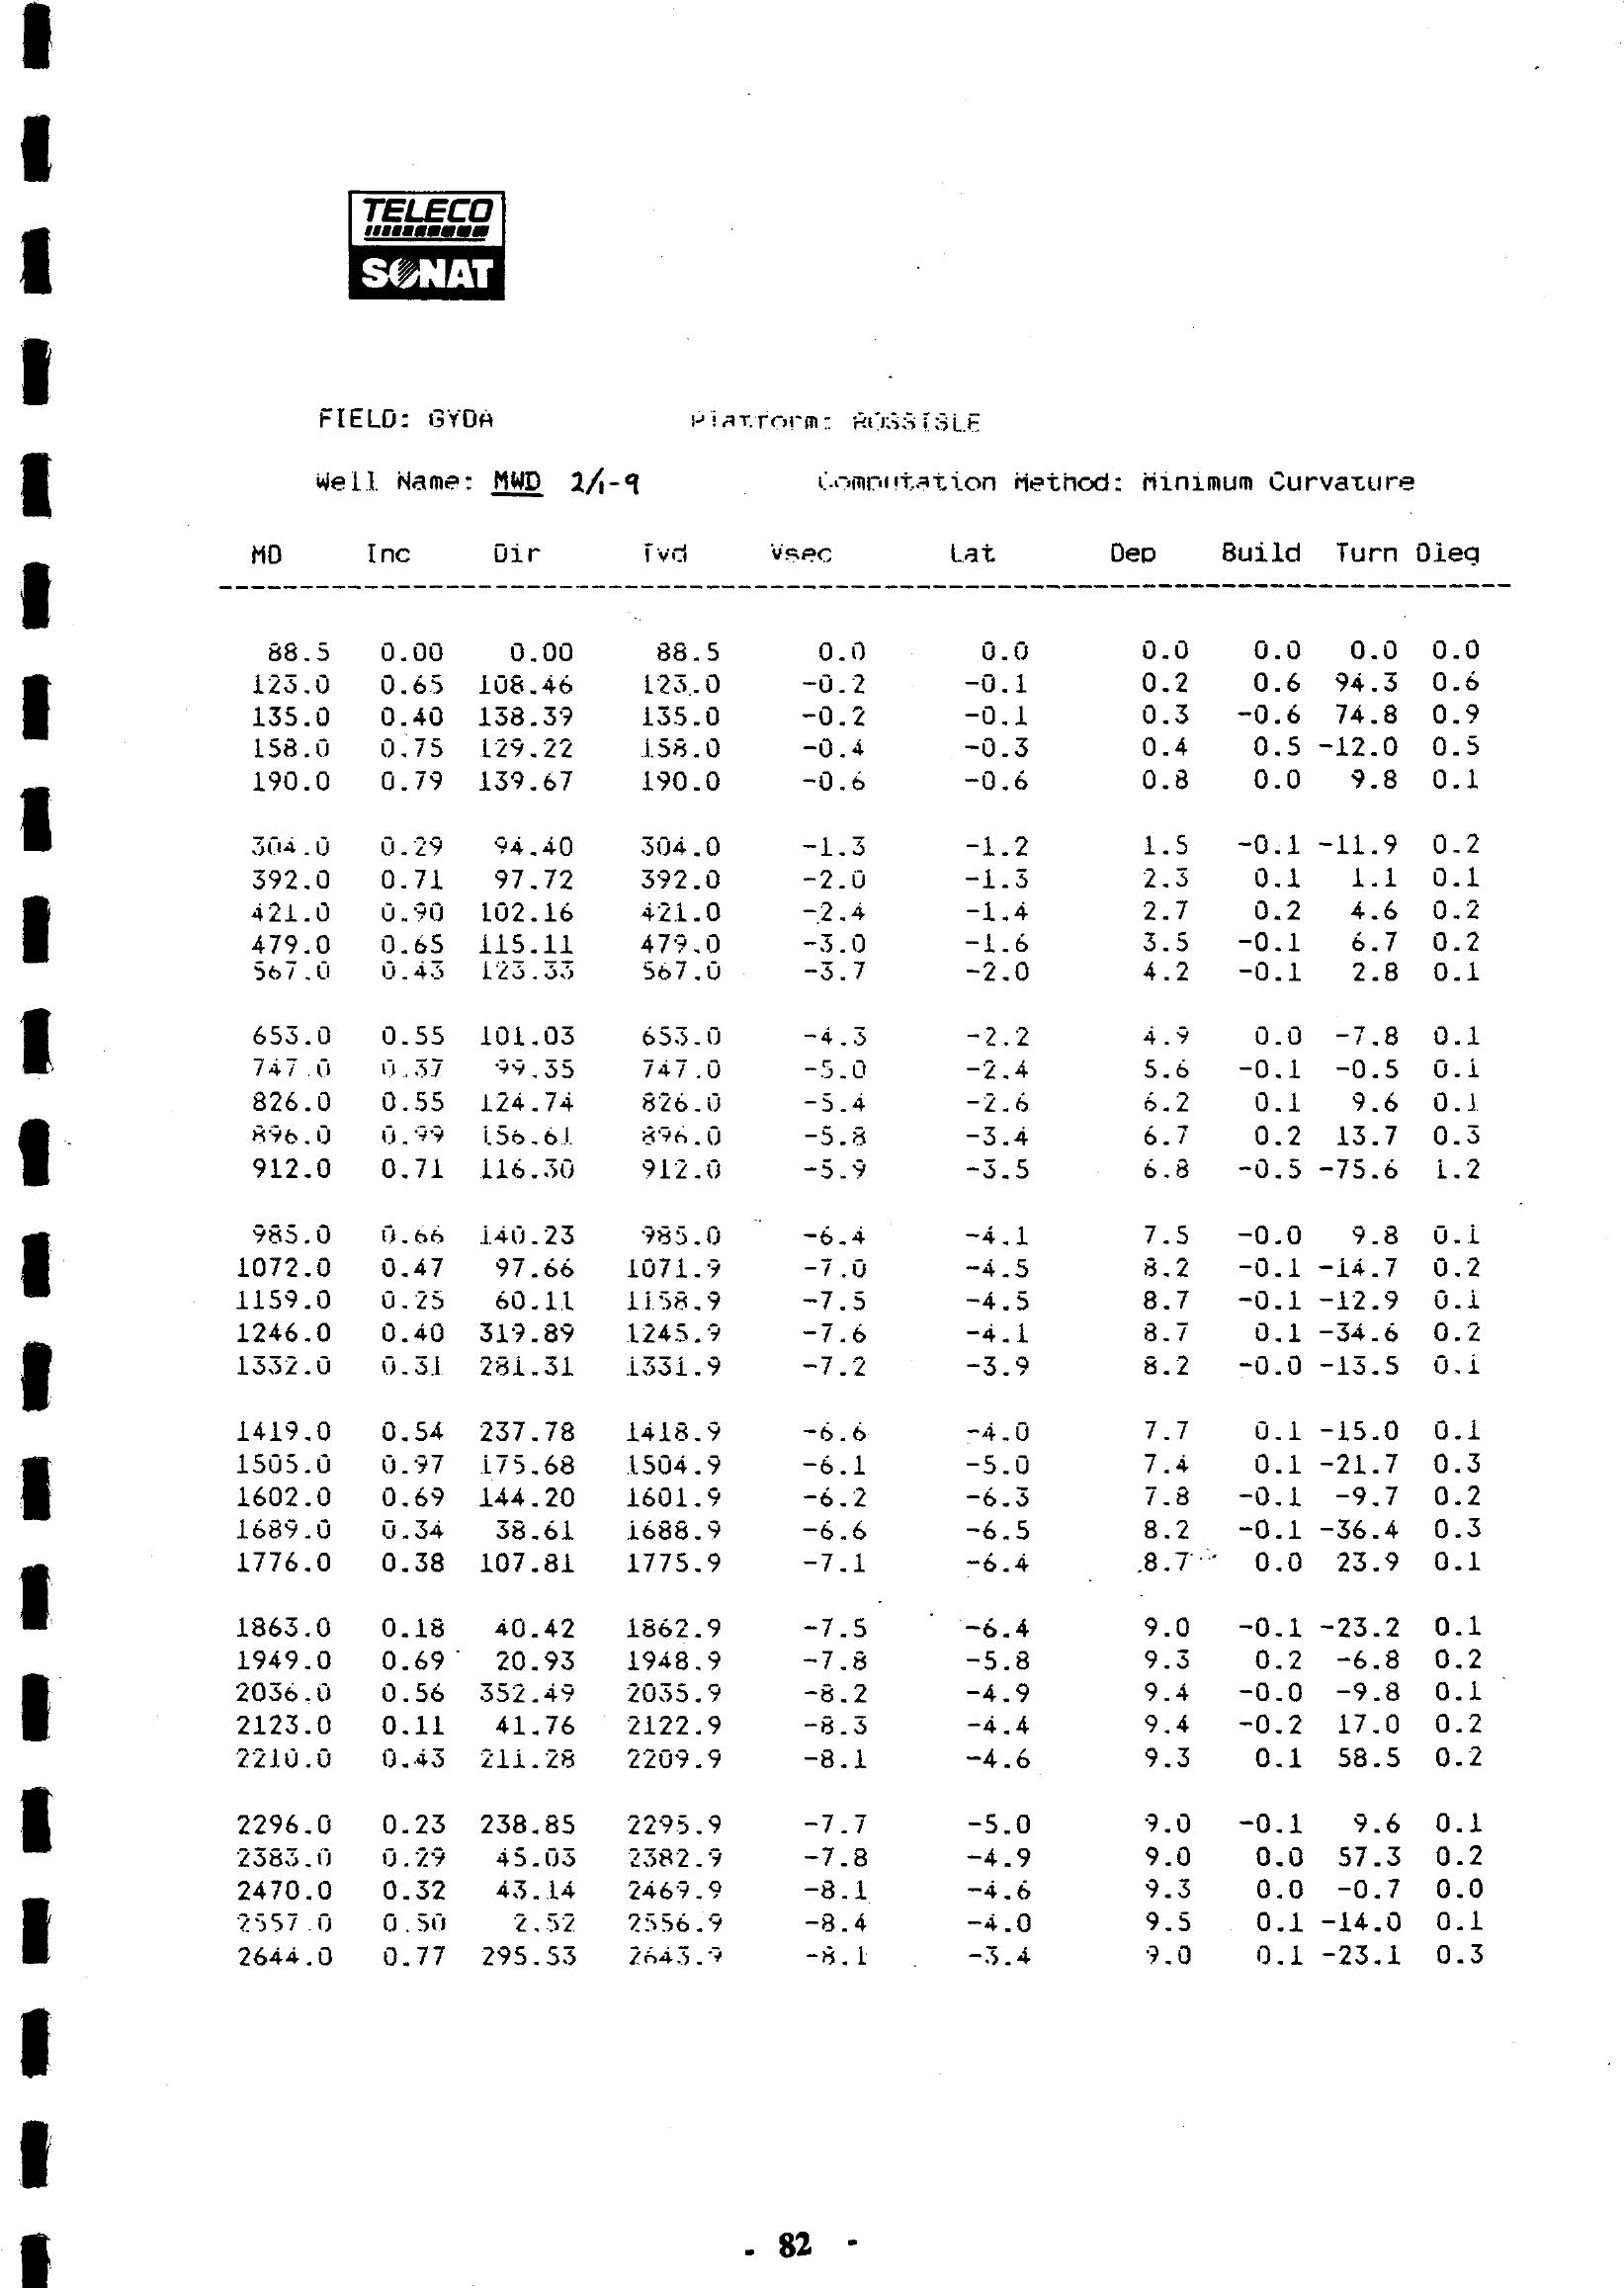table: (202, 506, 1557, 2031)
undefined: (272, 130, 633, 351)
